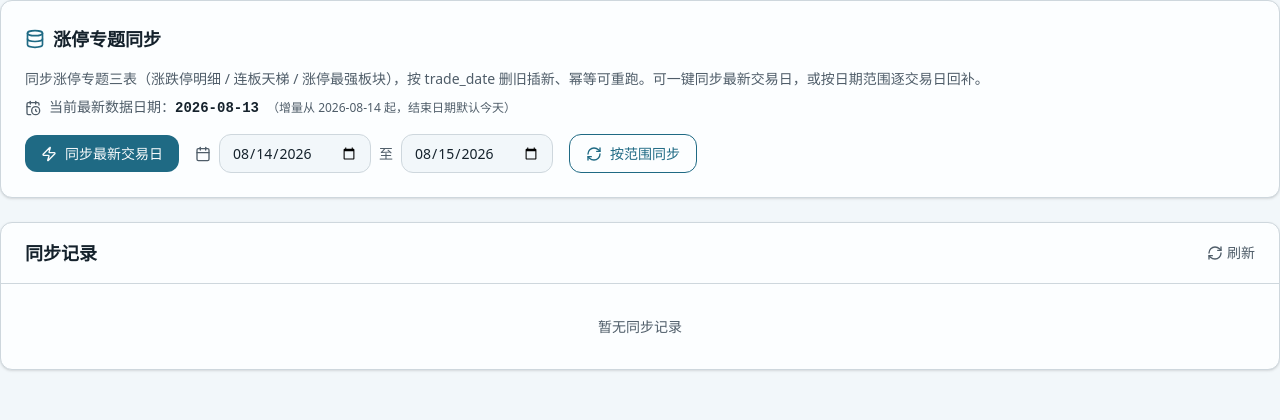
Test: LimitSyncPanel › 最新数据日期展示与默认预填 › 用户手动修改日期后，预填不再覆盖手动选择
Note: 手动清空开始日期 → 出现不成对提示（而非被重新预填）
Clear the date field named "开始日期": (295, 154) 219,134 -> 371,173
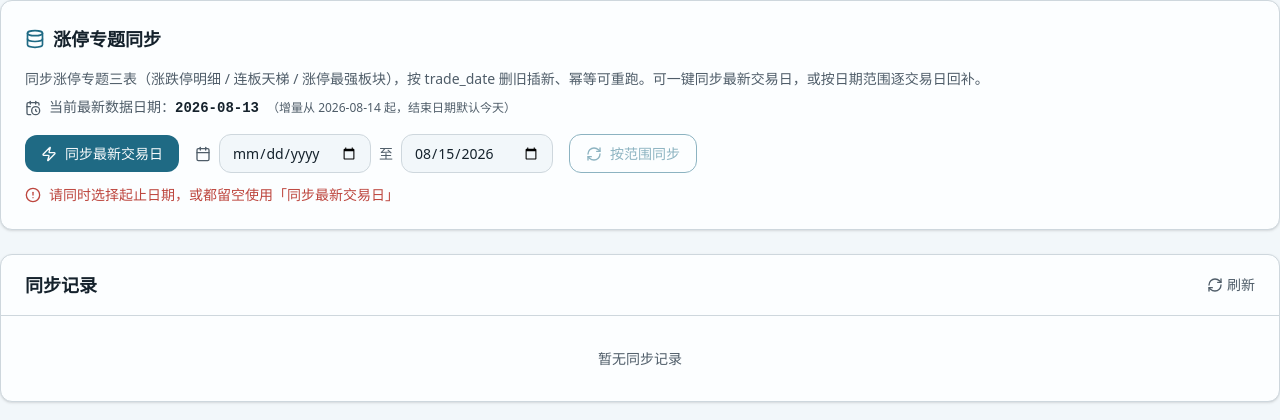
Check: the element with test id "limit-sync-validation-error" shows "同时选择起止日期", box 49,185 -> 399,204
